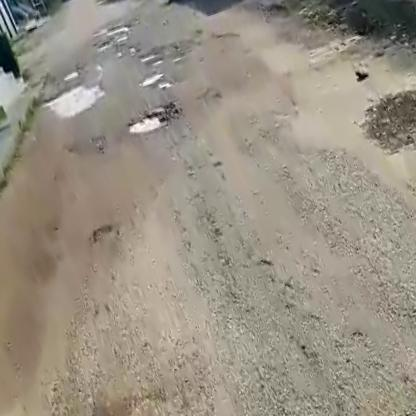pothole: (42, 75, 104, 120), (122, 103, 179, 143), (137, 67, 170, 91)
